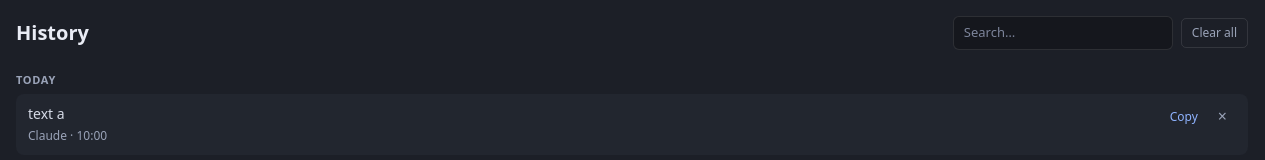
Scenario: HistoryPage › asks inline before clearing everything, and does nothing on No
The image size is (1265, 160).
Expected: the text "text a" is shown, [28,104,65,123]
Click the button "Clear all": (1214, 33) [1181,18,1248,48]
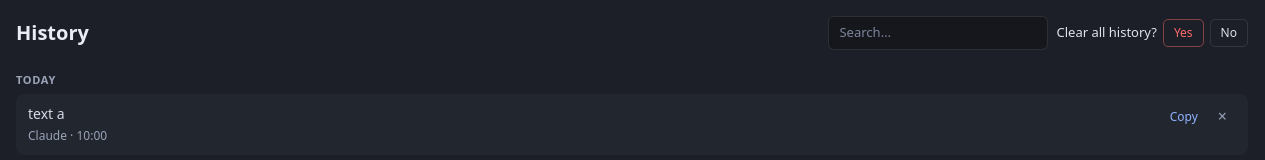
Now the text "Clear all history?" is shown, box [1056,23,1157,42]
Click the button "No": (1229, 33) [1210,19,1248,47]
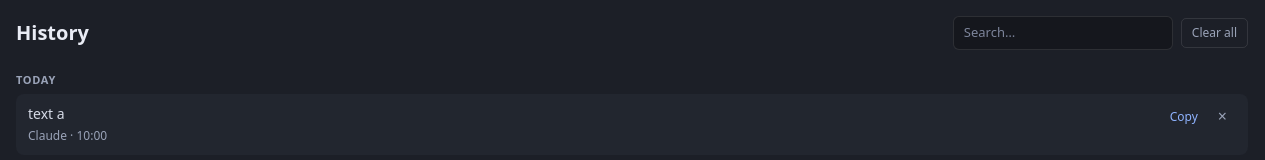
Expected: the text "text a" is shown, [28,104,65,123]
Now the text "Clear all history?" is gone
